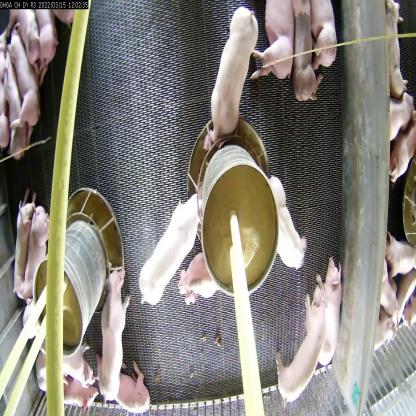Pig: (134, 183, 210, 303), (203, 12, 256, 155), (273, 265, 326, 401), (266, 160, 310, 289), (94, 261, 130, 402), (312, 244, 345, 372), (6, 183, 38, 313), (38, 353, 103, 416), (177, 233, 220, 310), (100, 359, 155, 415), (286, 0, 314, 110), (262, 0, 299, 82), (6, 31, 36, 121), (25, 203, 53, 296), (0, 62, 25, 153), (308, 7, 340, 73), (60, 353, 96, 386), (34, 1, 48, 73), (20, 13, 41, 45)
